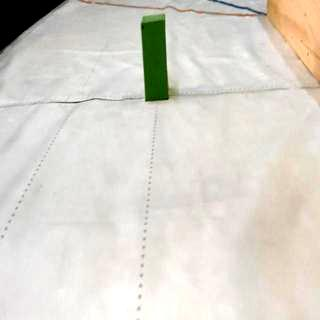greenbox: (142, 15, 168, 101)
